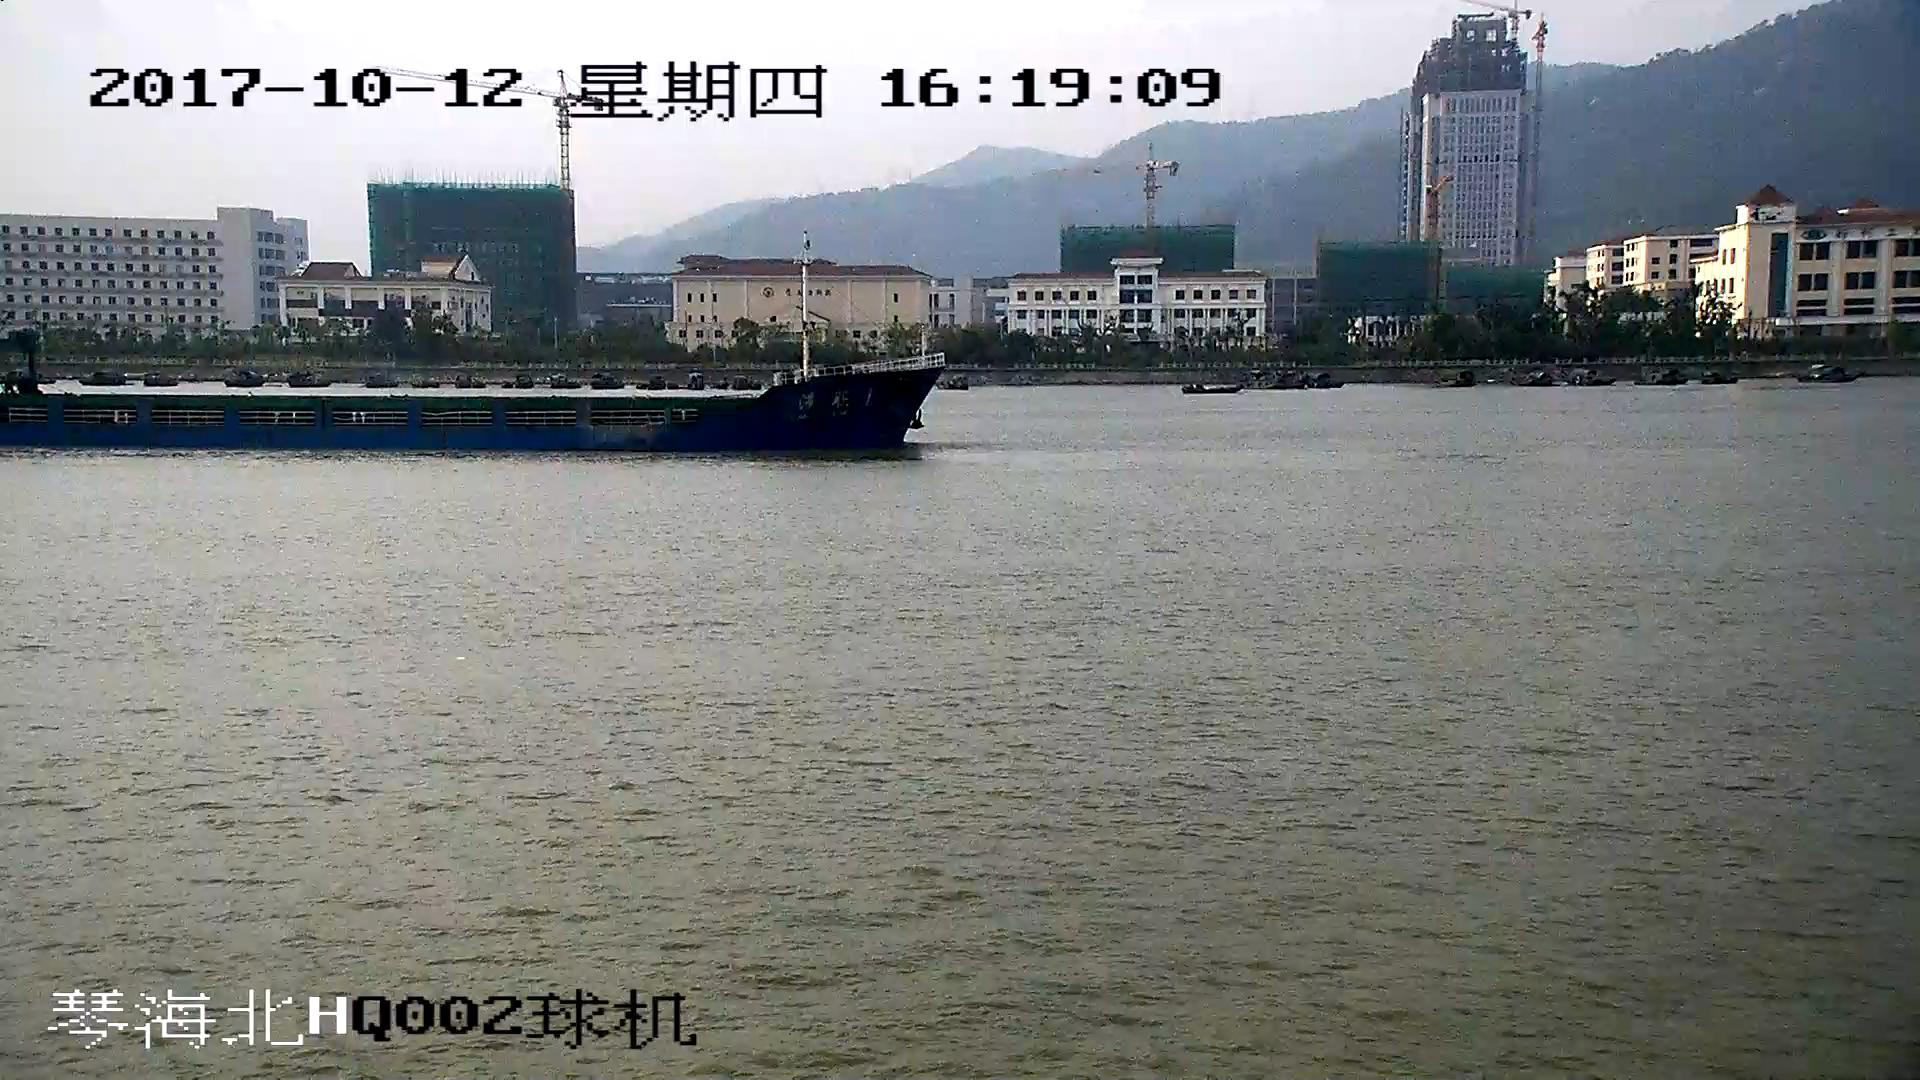general cargo ship: (1, 231, 943, 452)
